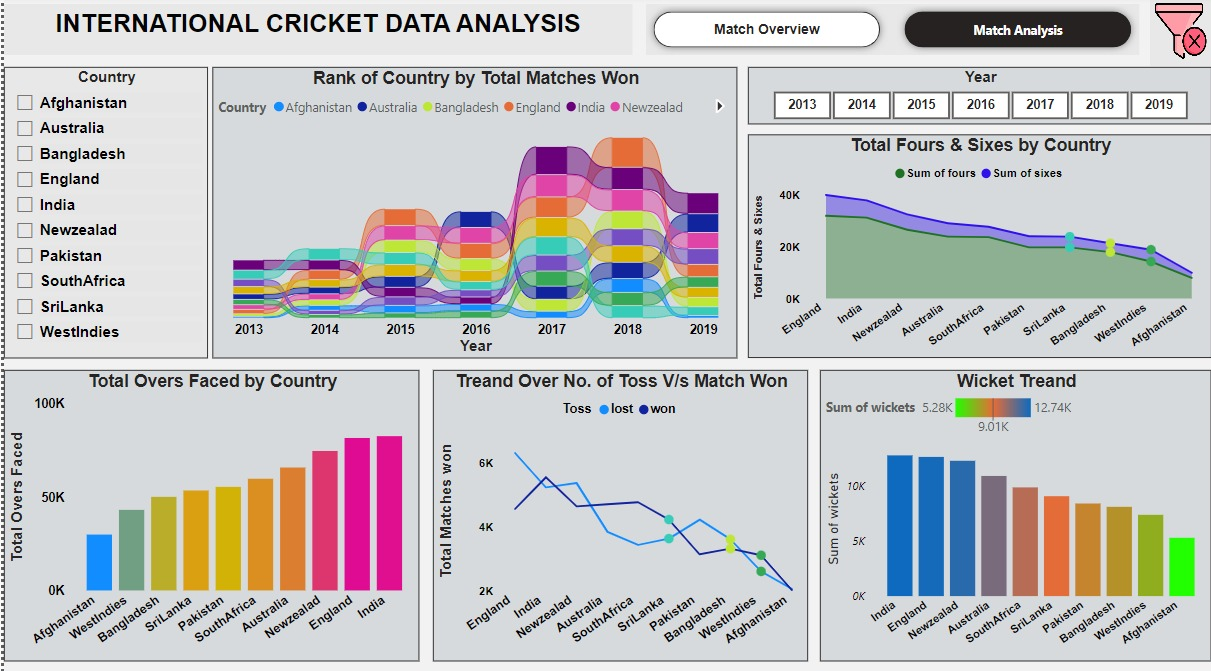

Layout of this report page (visuals, bound fields, positions):
{"tool":"powerbi","page":{"name":"Match Analysis","canvas":[1280,720],"ordinal":1},"visuals":[{"type":"ribbonChart","title":"Rank of Country by Total Matches Won","fields":{"Category":["Cleaned_Master_Table.start_date.Variation.Date Hierarchy.Year"],"Series":["Cleaned_Master_Table.country"],"Y":["CountNonNull(Cleaned_Master_Table.result)"]},"box":[220.9,76.3,556.3,308.3],"z":0},{"type":"clusteredColumnChart","title":"Wicket Treand","fields":{"Category":["Cleaned_Master_Table.Country"],"Y":["Sum(Cleaned_Master_Table.wickets)"]},"box":[864.6,397.4,414.8,308.3],"z":1000},{"type":"stackedAreaChart","title":"Total Fours & Sixes by Country","fields":{"Category":["Cleaned_Master_Table.Country"],"Y":["Sum(Cleaned_Master_Table.fours)","Sum(Cleaned_Master_Table.sixes)"]},"box":[788.3,147.8,491.1,236.8],"z":2000},{"type":"textbox","box":[0,9.5,666,54],"z":3000},{"type":"slicer","title":"Year","fields":{"Values":["Cleaned_Master_Table.start_date.Variation.Date Hierarchy.Year"]},"box":[788.3,76.3,491.1,60.4],"z":4000},{"type":"slicer","title":"Country","fields":{"Values":["Cleaned_Master_Table.Country"]},"box":[0,76.3,216.2,308.3],"z":5000},{"type":"lineClusteredColumnComboChart","title":"Total Overs Faced by Country","fields":{"Category":["Cleaned_Master_Table.Country"],"Y":["Sum(Cleaned_Master_Table.overs)"]},"box":[0,397.4,440.3,308.3],"z":6000},{"type":"lineChart","title":"Treand Over No. of Toss V/s Match Won","fields":{"Series":["Cleaned_Master_Table.Toss"],"Category":["Cleaned_Master_Table.Country"],"Y":["CountNonNull(Cleaned_Master_Table.Match Result)"]},"box":[454.6,397.4,397.4,308.3],"z":7000},{"type":"image","box":[1214.3,0,65.2,76.3],"z":8000},{"type":"pageNavigator","box":[680.3,9.5,522.9,54],"z":9000}]}

Visuals, with their boxes in screenshot pixels (x1, y1, x2, y2), scaled from the page's 1280x720 canvas onto the 1211x671 screenshot:
"Rank of Country by Total Matches Won" ribbonChart: box(209, 71, 735, 358)
"Wicket Treand" clusteredColumnChart: box(818, 370, 1210, 658)
"Total Fours & Sixes by Country" stackedAreaChart: box(746, 138, 1210, 358)
textbox: box(0, 9, 630, 59)
"Year" slicer: box(746, 71, 1210, 127)
"Country" slicer: box(0, 71, 205, 358)
"Total Overs Faced by Country" lineClusteredColumnComboChart: box(0, 370, 417, 658)
"Treand Over No. of Toss V/s Match Won" lineChart: box(430, 370, 806, 658)
image: box(1149, 0, 1210, 71)
pageNavigator: box(644, 9, 1138, 59)
